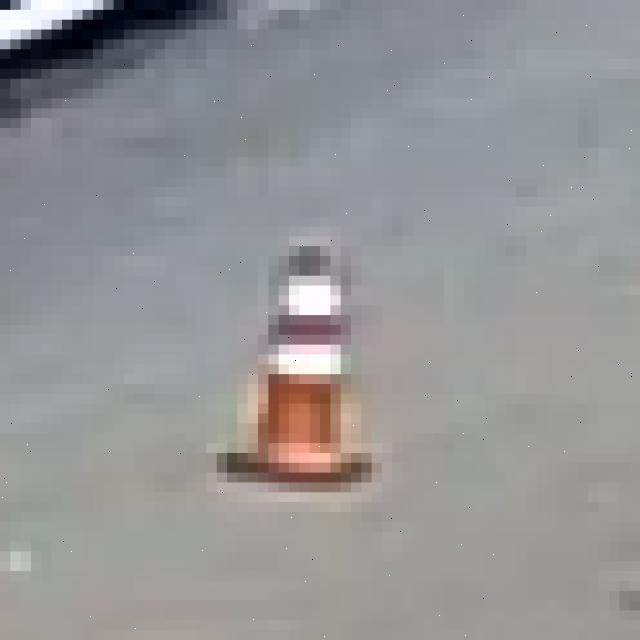small_cone: (217, 217, 372, 492)
